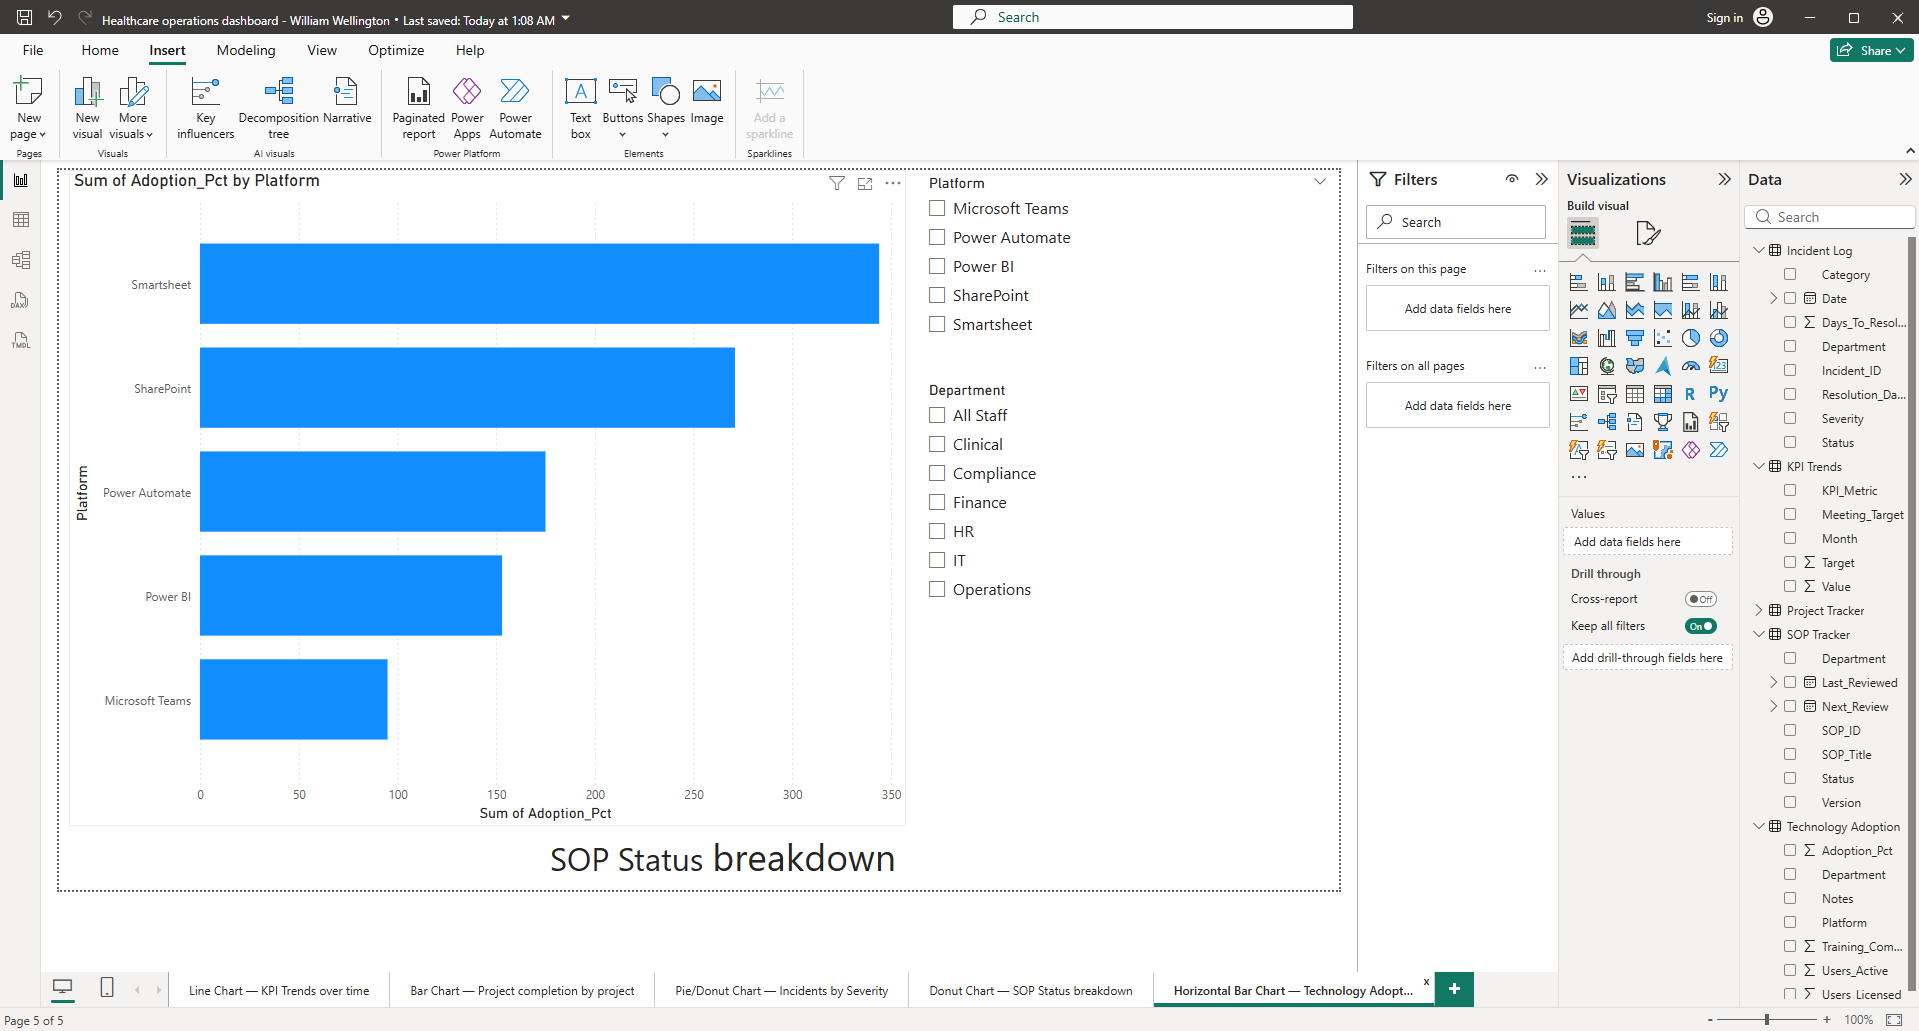

This screenshot's page, from the dashboard's own definition file:
{"tool":"powerbi","page":{"name":"Horizontal Bar Chart — Technology Adoption by Platform","canvas":[1280,720],"ordinal":4},"visuals":[{"type":"barChart","fields":{"Category":["Technology Adoption.Platform"],"Y":["Sum(Technology Adoption.Adoption_Pct)"]},"box":[9.7,0,837.4,655.6],"z":0},{"type":"textbox","box":[486.3,655.6,360.9,64.2],"z":1000},{"type":"slicer","fields":{"Values":["Technology Adoption.Platform"]},"box":[856.9,0,423.1,207.2],"z":1001},{"type":"slicer","fields":{"Values":["Technology Adoption.Department"]},"box":[857,207,423,449],"z":1002}]}

Visuals, with their boxes on the page's 1280x720 design canvas (x1, y1, x2, y2). These are canvas units, not pixel positions in the 1919x1031 screenshot, which may show the page scaled, cropped or inside an application window:
barChart - Technology Adoption.Platform x Sum(Technology Adoption.Adoption_Pct): bbox=[10, 0, 847, 656]
textbox: bbox=[486, 656, 847, 720]
slicer - Technology Adoption.Platform: bbox=[857, 0, 1280, 207]
slicer - Technology Adoption.Department: bbox=[857, 207, 1280, 656]
